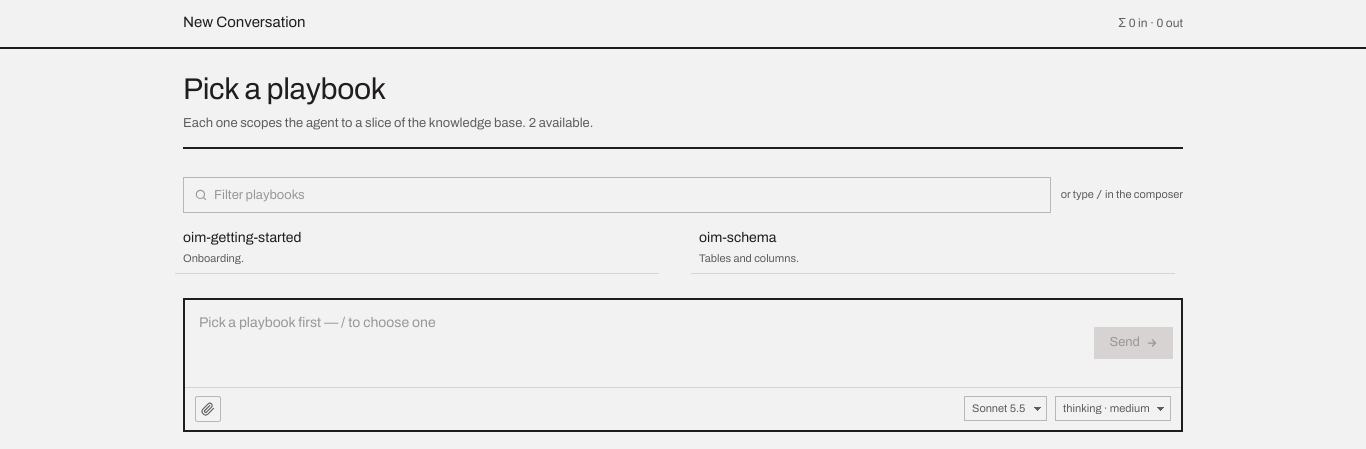
playbook preflight › holds the message and shows the recommendation when the playbook does not fit
The image size is (1366, 449).
Click the button "oim-getting-started Onboarding." at (242, 237), box left=175, top=221, right=659, bottom=274
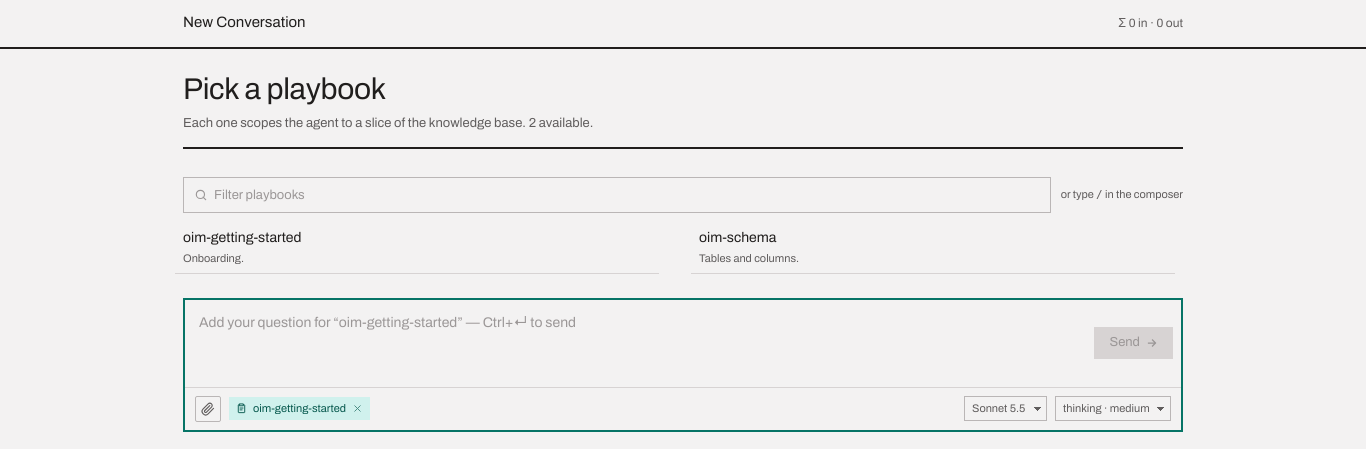
Type "Which columns does Person have?" into the text box with placeholder "Add your question for “oim-getting-started” — Ctrl+↵ to send" at (636, 343), box left=185, top=300, right=1086, bottom=387
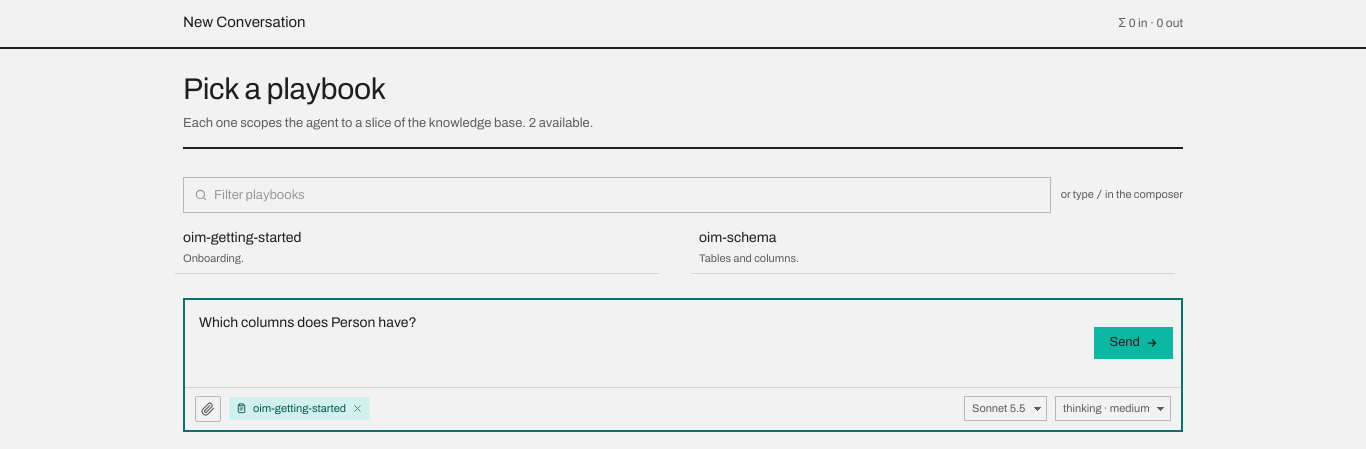
Click the button with class "composer-send" at (1134, 343), box left=1094, top=327, right=1173, bottom=359
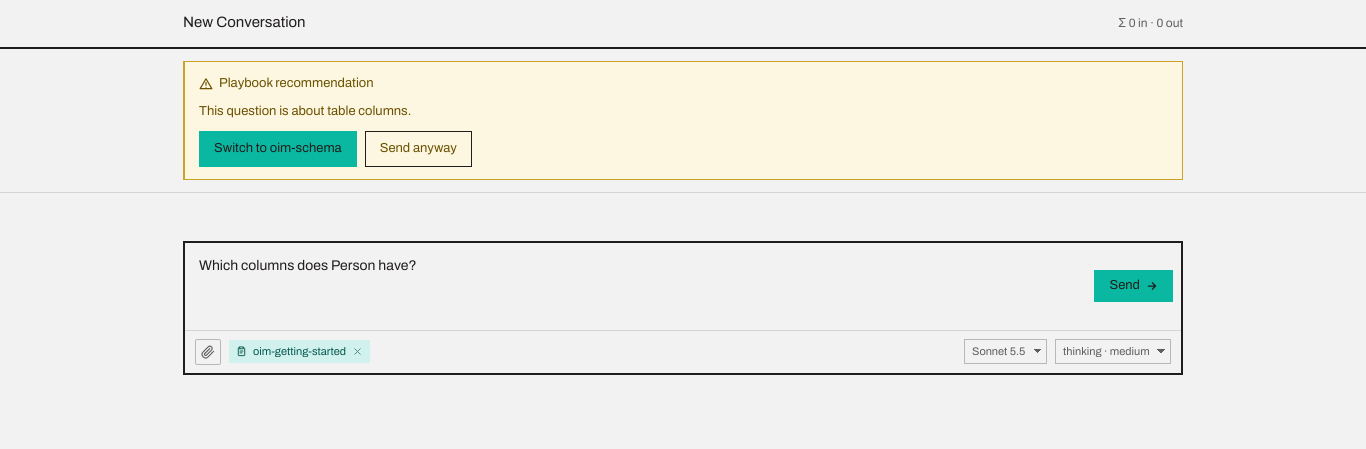
Expected: the text "This question is about table columns." is shown, left=199, top=104, right=411, bottom=118
